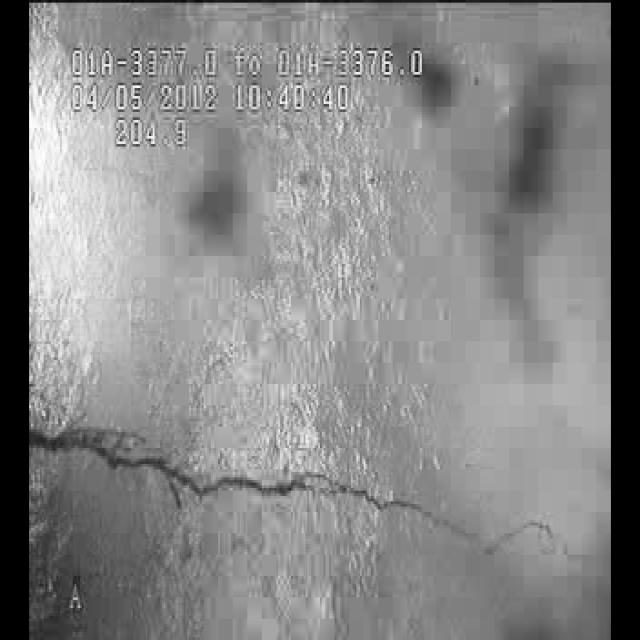Crack: (36, 414, 458, 540)
